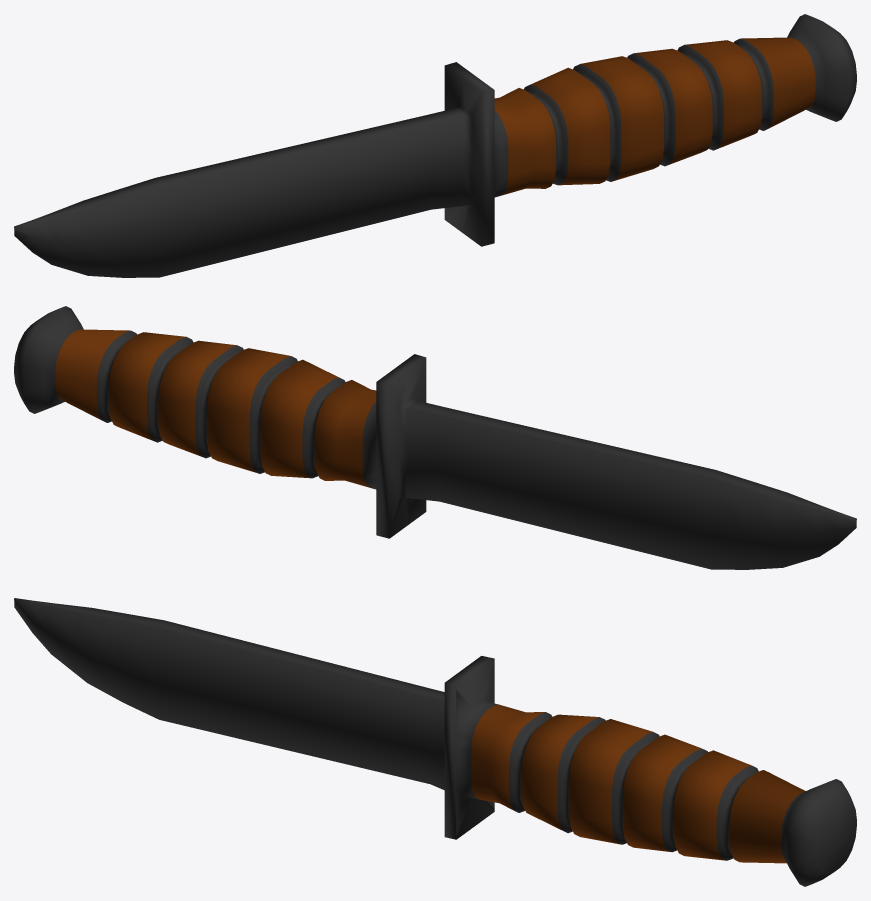
Rendered from knife.glb.
The picture shows the model from 3 angles, top to bottom: view 1: azimuth 30°, elevation 25°; view 2: azimuth 150°, elevation 25°; view 3: azimuth 330°, elevation 25°; orthographic projection.
Visible parts, largest first — view 1: Cube; view 2: Cube; view 3: Cube.
Boxes of the visible parts, box(x1,y1,x2,y2) form: Cube: box(14, 14, 856, 277); Cube: box(14, 306, 856, 569); Cube: box(14, 598, 856, 886).
Size of the model in its own units: 3.61 by 0.6477 by 0.401.
